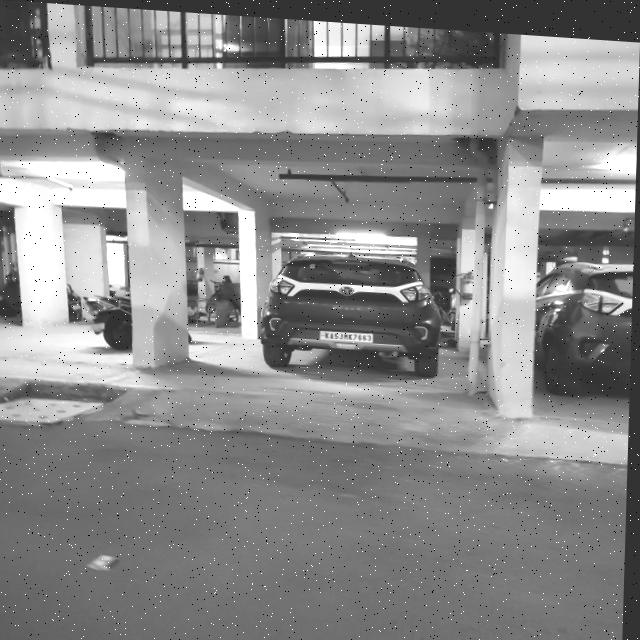car: (250, 240, 455, 384), (542, 246, 635, 401)
